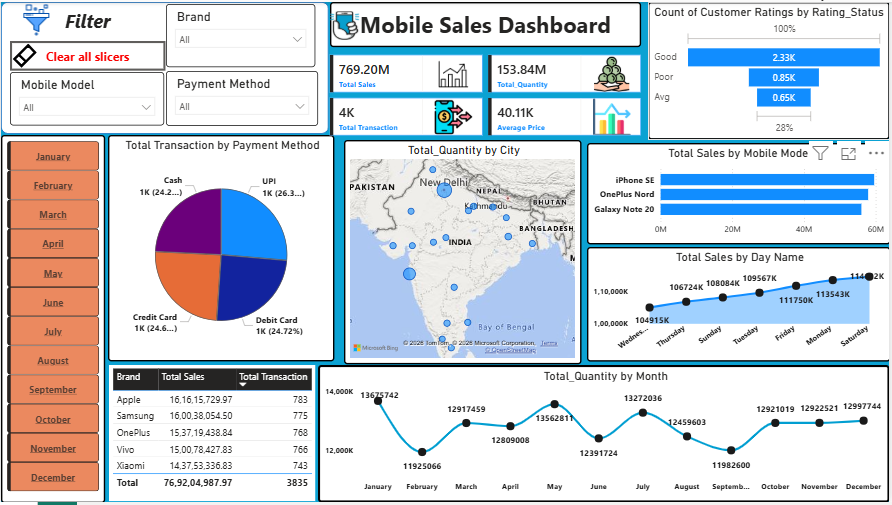

What the dashboard file says about the page in this screenshot:
{"tool":"powerbi","page":{"name":"Page 1","canvas":[1280,720],"ordinal":0},"visuals":[{"type":"shape","box":[0,0,471.7,189.7],"z":0},{"type":"textbox","box":[473.8,0,447.8,64.8],"z":1000},{"type":"image","box":[473.8,1.4,41.8,64.8],"z":2000},{"type":"slicer","fields":{"Values":["Sales_Data.Mobile Model"]},"box":[13.7,100.8,222.2,76.9],"z":3000},{"type":"slicer","fields":{"Values":["Sales_Data.Payment Method"]},"box":[237.5,99.1,218.7,78.6],"z":4000},{"type":"slicer","fields":{"Values":["Sales_Data.Brand"]},"box":[237.5,3.4,215.3,90.6],"z":5000},{"type":"advancedSlicerVisual","fields":{"Values":["Custom Calender.Date.Variation.Date Hierarchy.Month"]},"box":[0,191.4,150.4,529.8],"z":6000},{"type":"map","fields":{"Category":["Sales_Data.City"],"Size":["Sales_Data.Total_Quantity"]},"box":[493.9,198.2,341.8,323],"z":7000},{"type":"lineChart","fields":{"Category":["Custom Calender.Date.Variation.Date Hierarchy.Month"],"Y":["Sales_Data.Total_Quantity"]},"box":[456.9,522.4,823.1,198.2],"z":8000},{"type":"pieChart","fields":{"Category":["Sales_Data.Payment Method"],"Y":["Sales_Data.Total Transaction"]},"box":[154.5,191.5,325.9,325.9],"z":9000},{"type":"clusteredBarChart","fields":{"Category":["Sales_Data.Mobile Model"],"Y":["Sales_Data.Total Sales"]},"box":[843.3,203.3,436.7,146.1],"z":10000},{"type":"areaChart","fields":{"Y":["Sales_Data.Total Sales"],"Category":["Custom Calender.Day Name"]},"box":[843.3,352.8,436.7,164.6],"z":11000},{"type":"funnel","fields":{"Category":["Sales_Data.Rating_Status"],"Y":["CountNonNull(Sales_Data.Customer Ratings)"]},"box":[932.3,0,347.7,198.2],"z":12000},{"type":"tableEx","fields":{"Values":["Sales_Data.Brand","Sales_Data.Total Sales","Sales_Data.Total Transaction"]},"box":[156.2,522.4,297.3,195.9],"z":13000},{"type":"cardVisual","fields":{"Data":["Sales_Data.Total Sales","Sales_Data.Total_Quantity","Sales_Data.Total Transaction","Sales_Data.Average Price"]},"box":[456.5,59,482.4,151.2],"z":14000},{"type":"textbox","box":[13.7,3.4,223.9,46.1],"z":16000},{"type":"image","box":[13.7,3.4,75.2,46.1],"z":16500},{"type":"actionButton","box":[13.7,56.4,223.9,42.7],"z":16501}]}

Visuals, with their boxes in screenshot pixels (x1, y1, x2, y2), scaled from the page's 1280x720 canvas onto the 892x505 screenshot:
shape: <region>0, 0, 329, 133</region>
textbox: <region>330, 0, 642, 45</region>
image: <region>330, 1, 359, 46</region>
slicer - Sales_Data.Mobile Model: <region>10, 71, 164, 125</region>
slicer - Sales_Data.Payment Method: <region>166, 70, 318, 125</region>
slicer - Sales_Data.Brand: <region>166, 2, 316, 66</region>
advancedSlicerVisual - Custom Calender.Date.Variation.Date Hierarchy.Month: <region>0, 134, 105, 504</region>
map - Sales_Data.City x Sales_Data.Total_Quantity: <region>344, 139, 582, 366</region>
lineChart - Custom Calender.Date.Variation.Date Hierarchy.Month x Sales_Data.Total_Quantity: <region>318, 366, 891, 504</region>
pieChart - Sales_Data.Payment Method x Sales_Data.Total Transaction: <region>108, 134, 335, 363</region>
clusteredBarChart - Sales_Data.Mobile Model x Sales_Data.Total Sales: <region>588, 143, 891, 245</region>
areaChart - Sales_Data.Total Sales x Custom Calender.Day Name: <region>588, 247, 891, 363</region>
funnel - Sales_Data.Rating_Status x CountNonNull(Sales_Data.Customer Ratings): <region>650, 0, 891, 139</region>
tableEx - Sales_Data.Brand x Sales_Data.Total Sales: <region>109, 366, 316, 504</region>
cardVisual - Sales_Data.Total Sales x Sales_Data.Total_Quantity: <region>318, 41, 654, 147</region>
textbox: <region>10, 2, 166, 35</region>
image: <region>10, 2, 62, 35</region>
actionButton: <region>10, 40, 166, 70</region>
